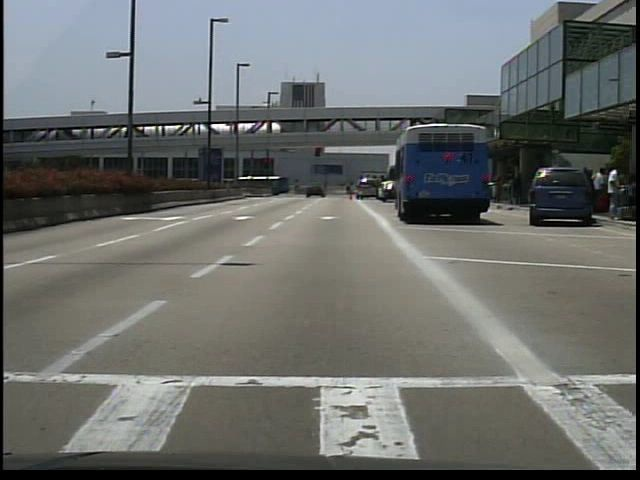person: (606, 162, 626, 220), (514, 169, 527, 205), (592, 166, 608, 190), (346, 182, 357, 197), (320, 184, 330, 199)
